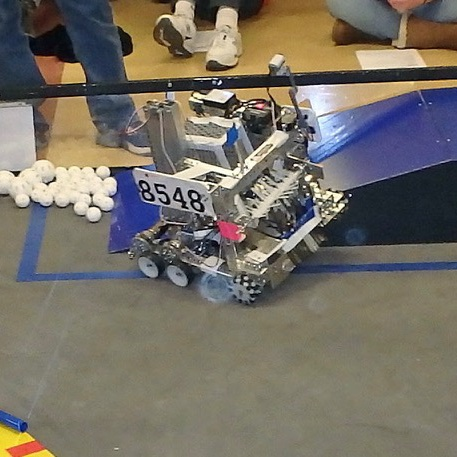robot: (120, 47, 351, 310)
